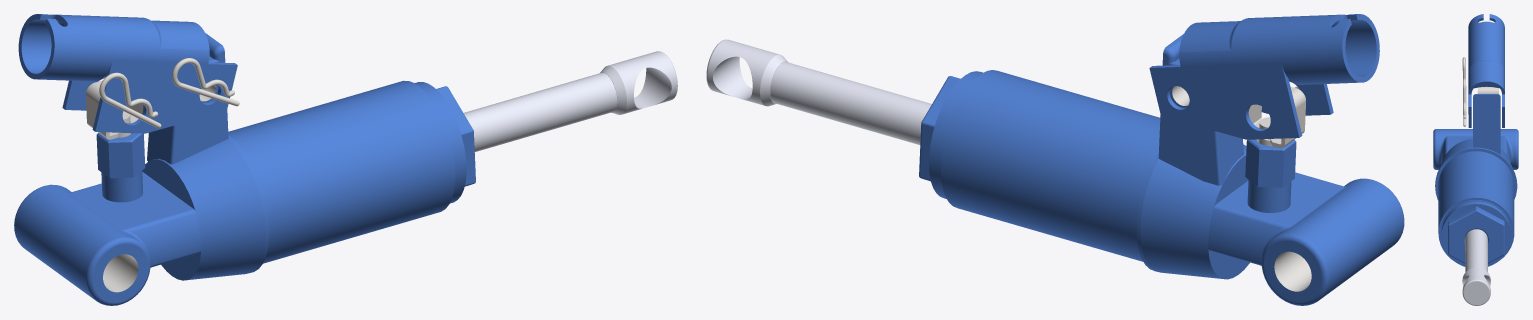
File: Update02.glb
3 views of the same model, side by side, from view 1: azimuth 30°, elevation 25°; view 2: azimuth 150°, elevation 25°; view 3: azimuth 270°, elevation 25° (orthographic). The views are drawn at different scales.
Parts seen in each view (by area): view 1: Update02; view 2: Update02; view 3: Update02.
Boxes of the visible parts, x1,y1,x2,y2 form: Update02: (14, 14, 677, 305); Update02: (706, 14, 1404, 305); Update02: (1433, 14, 1518, 305).
Bounding box in the file's own units: 0.2659 × 0.1166 × 0.056.
